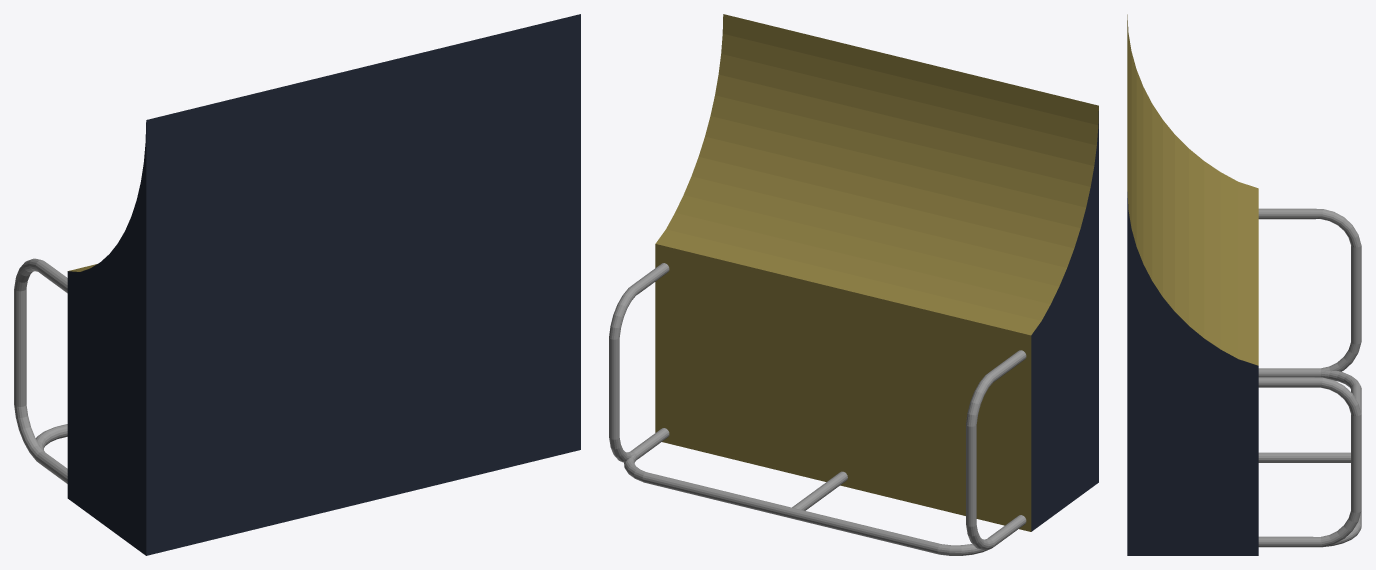
File: Ramp W Railings.fbx
The picture shows the model from 3 angles, left to right: view 1: azimuth 30°, elevation 25°; view 2: azimuth 150°, elevation 25°; view 3: azimuth 270°, elevation 25°; orthographic projection. The views are drawn at different scales.
Parts seen in each view (by area): view 1: Ramp W Railings; view 2: Ramp W Railings; view 3: Ramp W Railings.
Part boxes in pixels (x1,y1,x2,y2): Ramp W Railings: [14, 14, 580, 555]; Ramp W Railings: [609, 14, 1098, 555]; Ramp W Railings: [1127, 14, 1361, 555].
Bounding box in the file's own units: 1600 × 1533 × 892.
